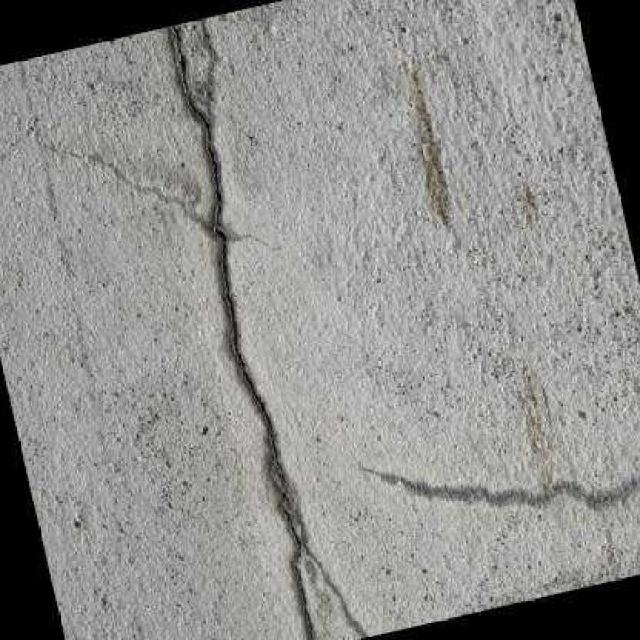D00: (171, 27, 315, 640)
